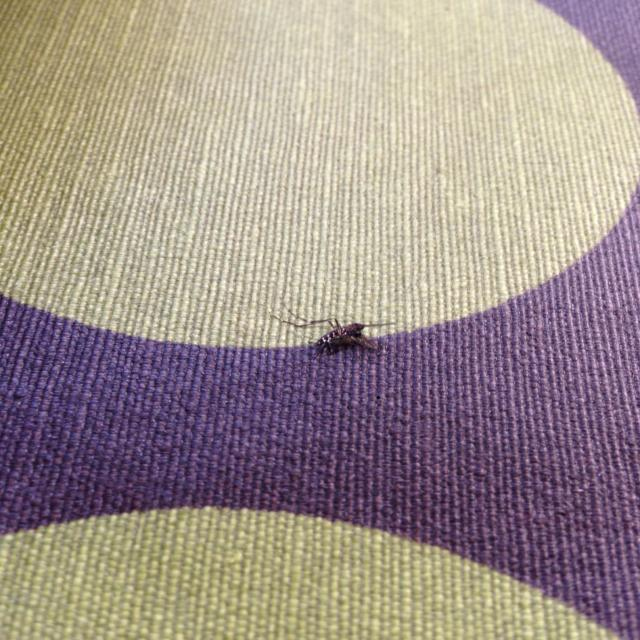albopictus: (257, 296, 424, 372)
